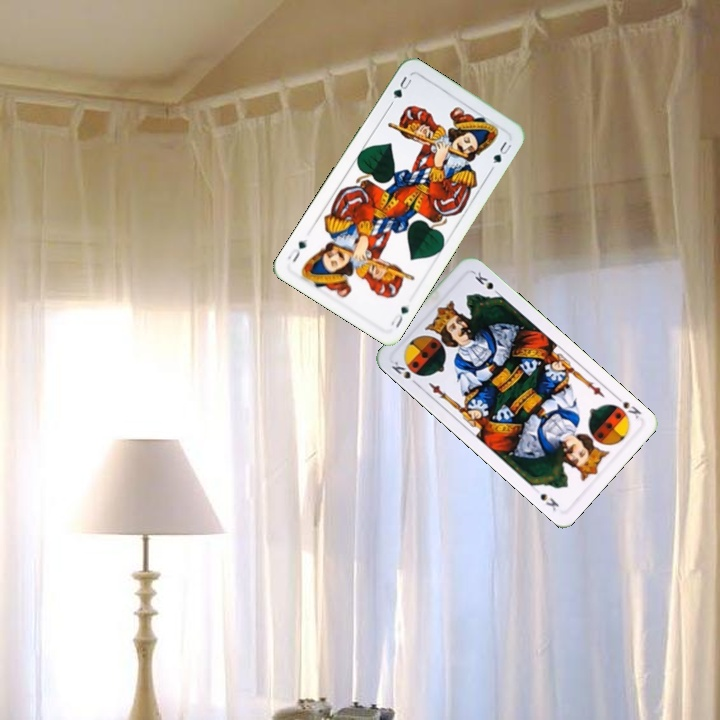GU: (386, 72, 414, 107), (387, 302, 412, 330)
SK: (387, 357, 421, 389), (611, 391, 644, 422)
